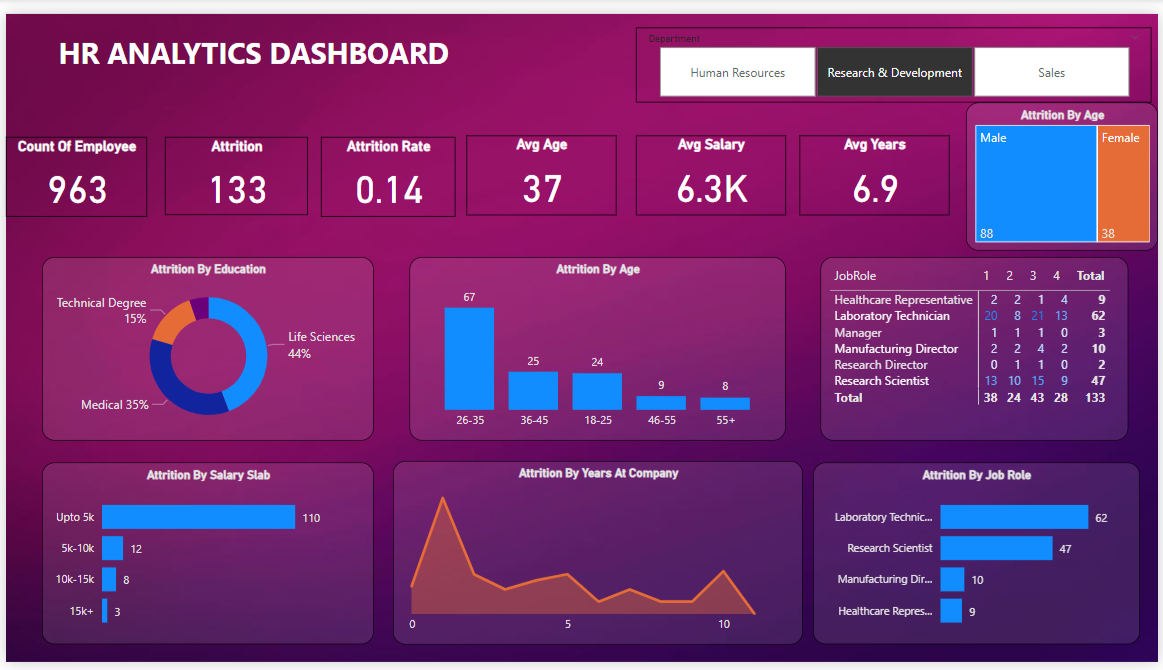

What the dashboard file says about the page in this screenshot:
{"tool":"powerbi","page":{"name":"Page 1","canvas":[1280,720],"ordinal":0},"visuals":[{"type":"card","title":"Avg Age","fields":{"Values":["Avg(HR_Analytics (3).Age)"]},"box":[512.4,134.2,166.4,88.9],"z":0},{"type":"card","title":"Count Of Employee","fields":{"Values":["CountNonNull(HR_Analytics (3).EmpID)"]},"box":[0,136.1,156.9,88.9],"z":1000},{"type":"card","title":"Attrition","fields":{"Values":["Sum(HR_Analytics (3).AttritionCount)"]},"box":[175.8,136.1,158.8,87],"z":2000},{"type":"card","title":"Attrition Rate","fields":{"Values":["HR_Analytics (3).AttritionRate"]},"box":[349.8,136.1,149.4,88.9],"z":3000},{"type":"card","title":"Avg Salary","fields":{"Values":["Avg(HR_Analytics (3).MonthlyIncome)"]},"box":[699.6,134.2,166.4,88.9],"z":4000},{"type":"card","title":"Avg Years","fields":{"Values":["Avg(HR_Analytics (3).YearsAtCompany)"]},"box":[881.1,134.2,166.4,88.9],"z":5000},{"type":"donutChart","title":"Attrition By Education","fields":{"Category":["HR_Analytics (3).EducationField"],"Y":["Sum(HR_Analytics (3).AttritionCount)"]},"box":[39.7,270.4,368.7,204.2],"z":6000},{"type":"columnChart","title":"Attrition By Age","fields":{"Category":["HR_Analytics (3).AgeGroup"],"Y":["Sum(HR_Analytics (3).AttritionCount)"]},"box":[448.1,270.4,417.8,204.2],"z":7000},{"type":"pivotTable","fields":{"Rows":["HR_Analytics (3).JobRole"],"Columns":["HR_Analytics (3).JobSatisfaction"],"Values":["Sum(HR_Analytics (3).AttritionCount)"]},"box":[905.6,270.4,342.2,204.2],"z":8000},{"type":"barChart","title":"Attrition By Salary Slab","fields":{"Category":["HR_Analytics (3).SalarySlab"],"Y":["Sum(HR_Analytics (3).AttritionCount)"]},"box":[39.7,499.1,368.7,202.3],"z":9000},{"type":"barChart","title":"Attrition By Job Role","fields":{"Category":["HR_Analytics (3).JobRole"],"Y":["Sum(HR_Analytics (3).AttritionCount)"]},"box":[896.2,499.1,363,202.3],"z":10000},{"type":"areaChart","title":"Attrition By Years At Company","fields":{"Category":["HR_Analytics (3).YearsAtCompany"],"Y":["Sum(HR_Analytics (3).AttritionCount)"]},"box":[429.2,497.3,455.7,204.2],"z":11000},{"type":"treemap","title":"Attrition By Age","fields":{"Group":["HR_Analytics (3).Gender"],"Values":["Sum(HR_Analytics (3).AttritionCount)"]},"box":[1066.4,98.3,213.6,164.5],"z":12000},{"type":"slicer","fields":{"Values":["HR_Analytics (3).Department"]},"box":[699.6,15.1,572.9,83.2],"z":13000},{"type":"textbox","box":[52.9,15.1,476.5,64.3],"z":13001}]}

Visuals, with their boxes in screenshot pixels (x1, y1, x2, y2), scaled from the page's 1280x720 canvas onto the 1163x670 screenshot:
"Avg Age" card: (left=466, top=125, right=617, bottom=208)
"Count Of Employee" card: (left=0, top=127, right=143, bottom=209)
"Attrition" card: (left=160, top=127, right=304, bottom=208)
"Attrition Rate" card: (left=318, top=127, right=454, bottom=209)
"Avg Salary" card: (left=636, top=125, right=787, bottom=208)
"Avg Years" card: (left=801, top=125, right=952, bottom=208)
"Attrition By Education" donutChart: (left=36, top=252, right=371, bottom=442)
"Attrition By Age" columnChart: (left=407, top=252, right=787, bottom=442)
pivotTable - HR_Analytics (3).JobRole x HR_Analytics (3).JobSatisfaction: (left=823, top=252, right=1134, bottom=442)
"Attrition By Salary Slab" barChart: (left=36, top=464, right=371, bottom=653)
"Attrition By Job Role" barChart: (left=814, top=464, right=1144, bottom=653)
"Attrition By Years At Company" areaChart: (left=390, top=463, right=804, bottom=653)
"Attrition By Age" treemap: (left=969, top=91, right=1162, bottom=245)
slicer - HR_Analytics (3).Department: (left=636, top=14, right=1156, bottom=91)
textbox: (left=48, top=14, right=481, bottom=74)
